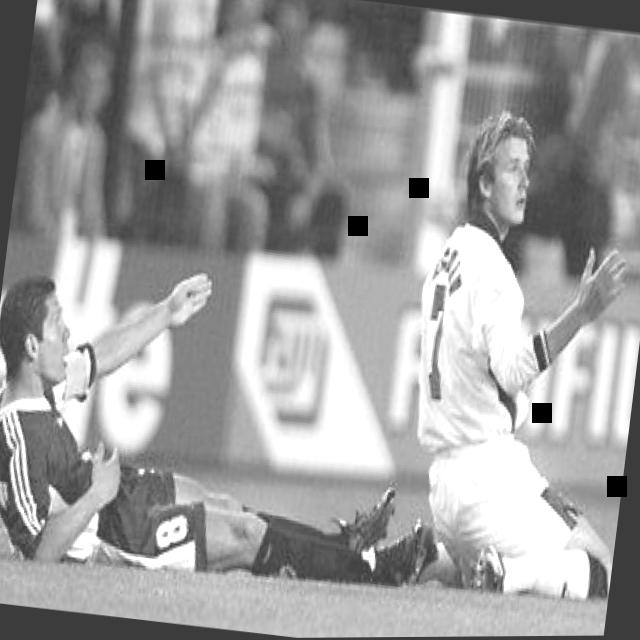Fall-Detected: (0, 187, 454, 627)
